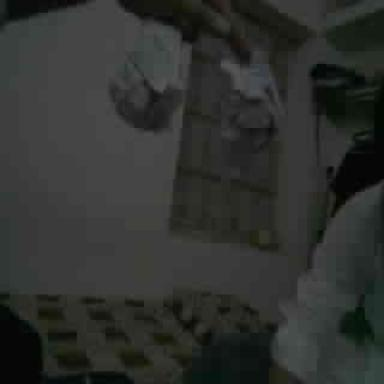paper: (110, 21, 181, 130), (222, 53, 282, 142)
